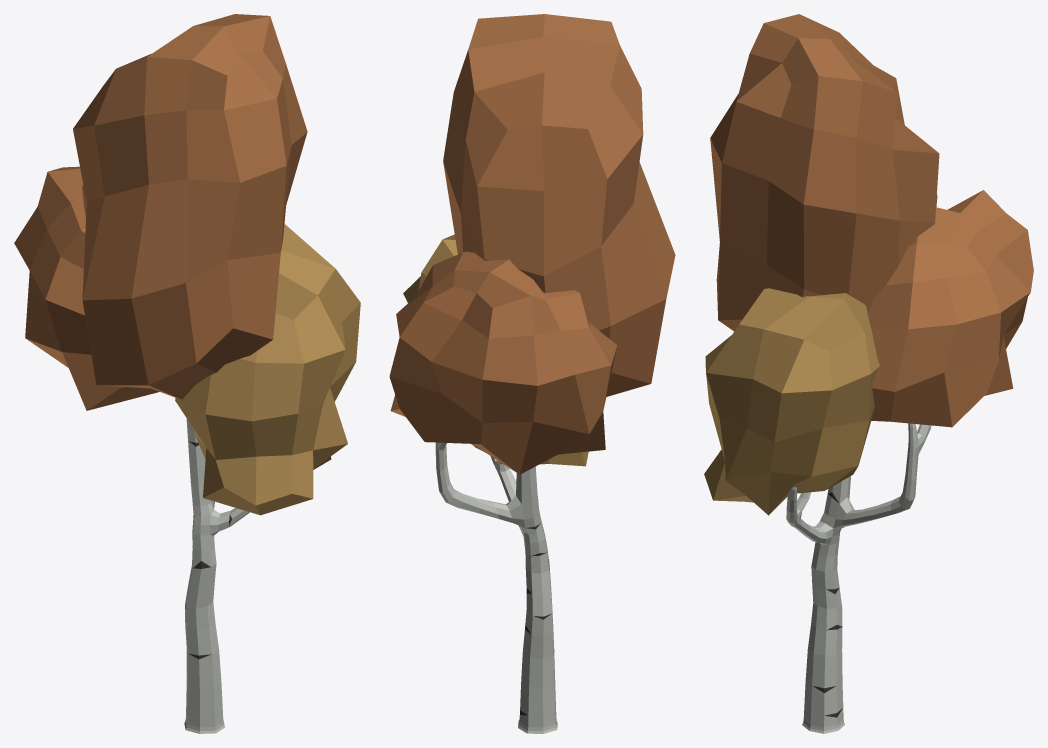
File: BirchTree_Autumn_3.glb
3 renders of one model, left to right at view 1: azimuth 30°, elevation 25°; view 2: azimuth 150°, elevation 25°; view 3: azimuth 270°, elevation 25°, orthographic. The views are drawn at different scales.
Visible parts, largest first — view 1: Orange, LightOrange, White; view 2: Orange, White, LightOrange; view 3: Orange, LightOrange, White.
Part boxes in pixels (left/top/right/bottom): Orange: left=14, top=14, right=307, bottom=410; LightOrange: left=175, top=224, right=360, bottom=515; White: left=184, top=418, right=249, bottom=733; Orange: left=389, top=14, right=675, bottom=474; White: left=435, top=442, right=557, bottom=733; LightOrange: left=403, top=234, right=588, bottom=466; Orange: left=710, top=14, right=1033, bottom=427; LightOrange: left=704, top=288, right=879, bottom=515; White: left=786, top=423, right=931, bottom=733.
Size of the model in its own units: 1.57 by 4.09 by 1.77.
